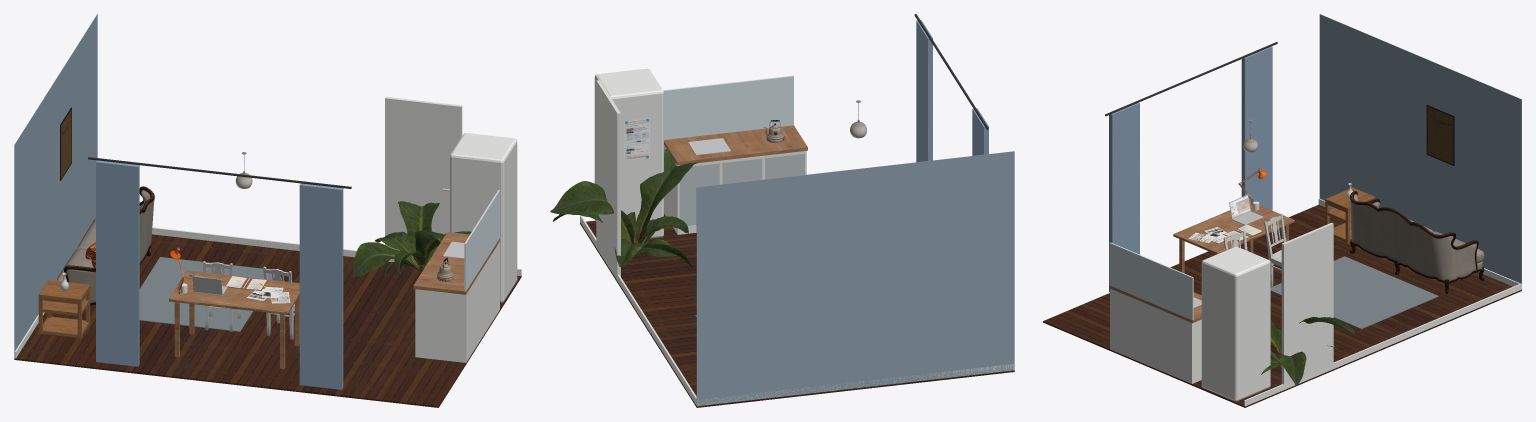
Rendered from studio.glb.
3 views of the same model, side by side, from view 1: azimuth 30°, elevation 25°; view 2: azimuth 150°, elevation 25°; view 3: azimuth 270°, elevation 25° (orthographic). The views are drawn at different scales.
Parts seen in each view (by area): view 1: Parquet, MurCouleur, Rideau.001, Rideau, PortePaliere, Frigo, Meubles, Tapis, anthurium_botany_01_a, Table, side_table_01, Sofa_01 (+8 smaller); view 2: MurCouleur, Parquet, Credence, anthurium_botany_01_a, Frigo, PortePaliere, PlanTravail, Rideau.001, Facade.002, Meubles, Plinthes, Fiche (+5 smaller); view 3: MurCouleur, Parquet, Frigo, PortePaliere, Sofa_01, Meubles, Rideau, Tapis, Rideau.001, Credence, Plinthes, Table (+6 smaller).
Part boxes in pixels (x1=…): Parquet: x1=14, y1=234, x2=521, y2=407; MurCouleur: x1=14, y1=14, x2=97, y2=355; Rideau.001: x1=299, y1=183, x2=343, y2=389; Rideau: x1=96, y1=160, x2=139, y2=366; PortePaliere: x1=385, y1=97, x2=462, y2=265; Frigo: x1=450, y1=133, x2=517, y2=302; Meubles: x1=415, y1=241, x2=499, y2=362; Tapis: x1=139, y1=257, x2=274, y2=331; anthurium_botany_01_a: x1=352, y1=201, x2=471, y2=277; Table: x1=169, y1=270, x2=299, y2=314; side_table_01: x1=38, y1=280, x2=90, y2=338; Sofa_01: x1=56, y1=186, x2=154, y2=305; MurCouleur: x1=696, y1=151, x2=1014, y2=406; Parquet: x1=580, y1=213, x2=1014, y2=407; Credence: x1=663, y1=75, x2=793, y2=139; anthurium_botany_01_a: x1=550, y1=148, x2=698, y2=268; Frigo: x1=594, y1=68, x2=663, y2=238; PortePaliere: x1=596, y1=80, x2=620, y2=279; PlanTravail: x1=664, y1=125, x2=807, y2=165; Rideau.001: x1=916, y1=20, x2=932, y2=162; Facade.002: x1=679, y1=163, x2=719, y2=225; Meubles: x1=664, y1=145, x2=806, y2=234; Plinthes: x1=580, y1=215, x2=698, y2=406; Fiche: x1=624, y1=118, x2=649, y2=160; MurCouleur: x1=1319, y1=14, x2=1521, y2=285; Parquet: x1=1043, y1=204, x2=1521, y2=407; Frigo: x1=1201, y1=246, x2=1270, y2=401; PortePaliere: x1=1281, y1=223, x2=1333, y2=388; Sofa_01: x1=1350, y1=191, x2=1484, y2=293; Meubles: x1=1110, y1=288, x2=1201, y2=383; Rideau: x1=1241, y1=46, x2=1272, y2=210; Tapis: x1=1270, y1=256, x2=1438, y2=329; Rideau.001: x1=1109, y1=102, x2=1139, y2=291; Credence: x1=1109, y1=242, x2=1193, y2=320; Plinthes: x1=1244, y1=284, x2=1521, y2=406; Table: x1=1173, y1=201, x2=1294, y2=254.
Bounding box in the file's own units: 6.12 × 2.7 × 6.12.
Materials: 46 (29 with a texture image).
